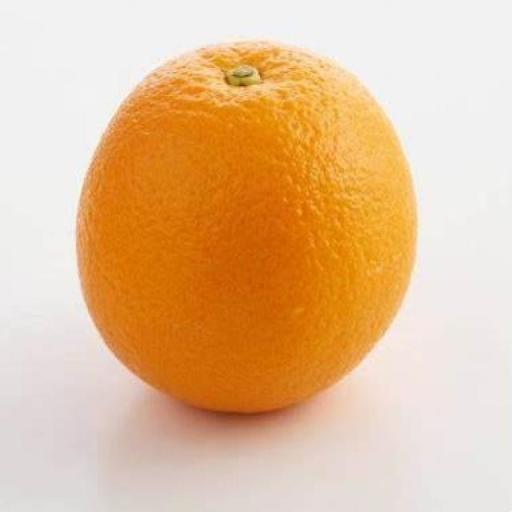fruit: (77, 41, 415, 409)
